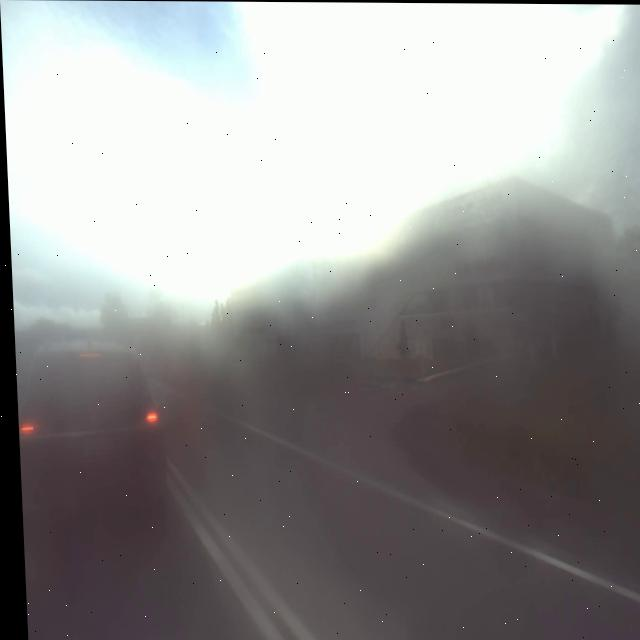car: (11, 326, 168, 518)
